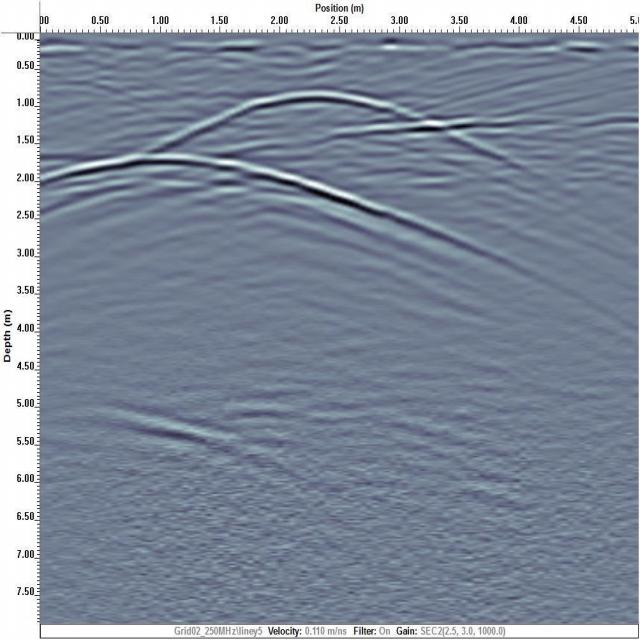hyperbola: (44, 142, 394, 230), (159, 80, 520, 153)
